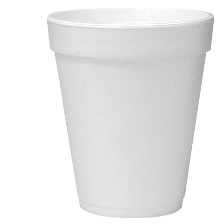glass: (44, 4, 219, 222)
